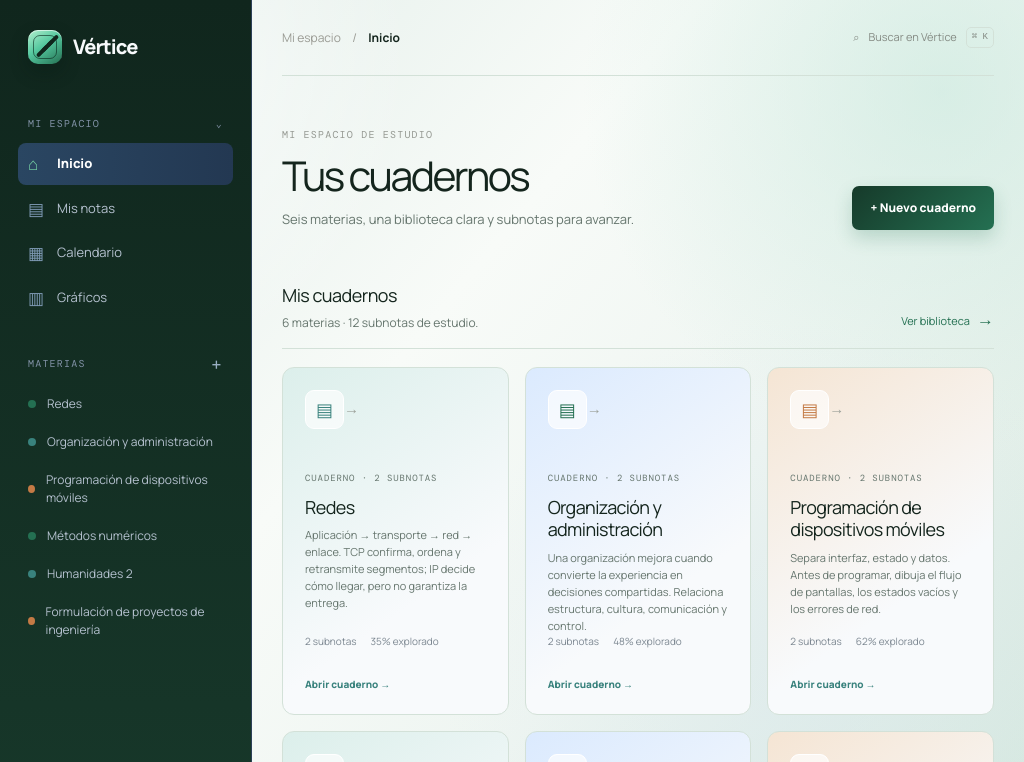
Scenario: panel principal de estudio › muestra gráficos de hábitos y progreso
The image size is (1024, 762).
Click the button "▥ Gráficos": (126, 297) [18, 276, 233, 318]
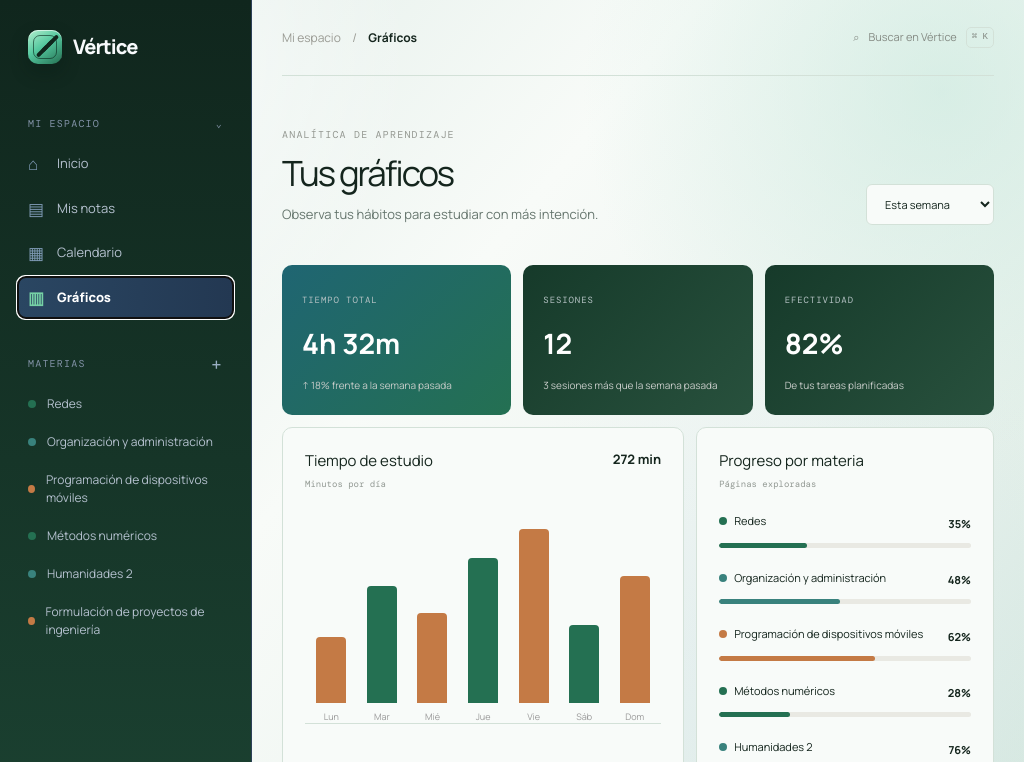
Result: the heading "Tus gráficos" is shown at [282, 149, 453, 196]
Result: the heading "Tiempo de estudio" is shown at [305, 450, 433, 473]
Result: the heading "Progreso por materia" is shown at [719, 450, 864, 473]
